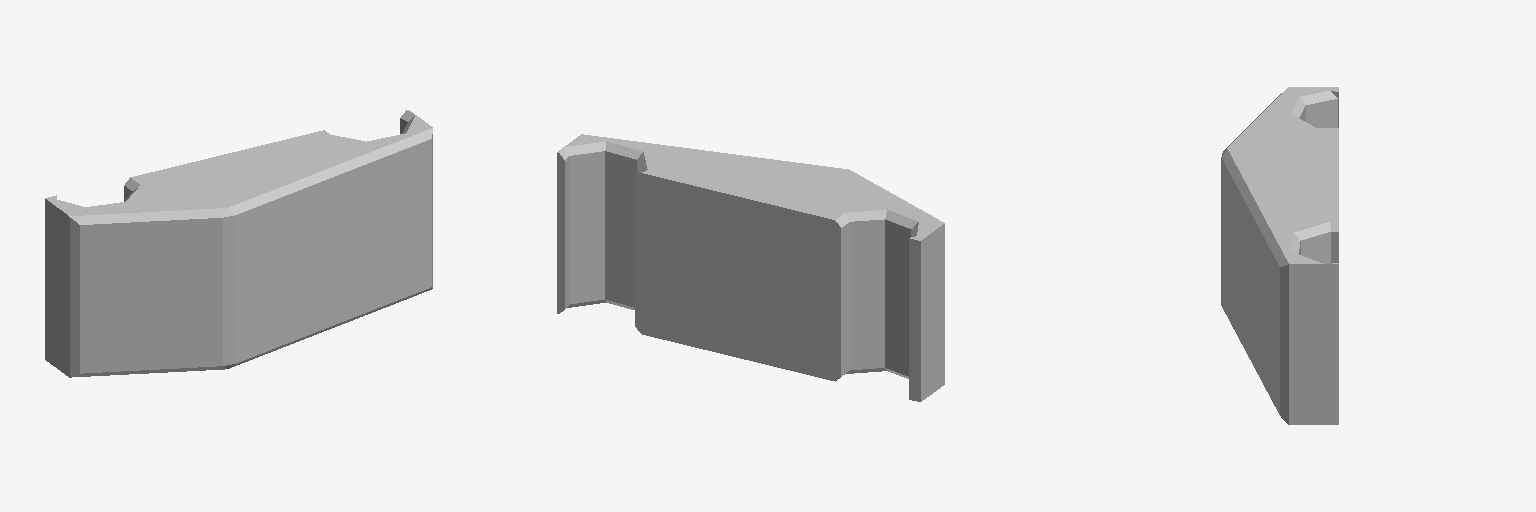
The model's file is Part Studio 1.obj.
3 renders of one model, left to right at view 1: azimuth 30°, elevation 25°; view 2: azimuth 150°, elevation 25°; view 3: azimuth 270°, elevation 25°, orthographic.
Visible parts, largest first — view 1: mesh9, mesh2, mesh41, mesh6, mesh11, mesh1, mesh3, mesh5; view 2: mesh30, mesh41, mesh19, mesh36, mesh22, mesh6, mesh42, mesh7, mesh31, mesh14, mesh15; view 3: mesh41, mesh9, mesh13, mesh12, mesh11, mesh40, mesh25.
Part boxes in pixels (bbox=[...]): mesh9: bbox=[236, 139, 431, 362]; mesh2: bbox=[80, 218, 222, 373]; mesh41: bbox=[45, 110, 432, 215]; mesh6: bbox=[45, 199, 69, 377]; mesh11: bbox=[228, 128, 432, 214]; mesh1: bbox=[223, 215, 235, 365]; mesh3: bbox=[70, 218, 79, 376]; mesh5: bbox=[69, 208, 226, 224]; mesh30: bbox=[635, 173, 840, 381]; mesh41: bbox=[557, 134, 944, 240]; mesh19: bbox=[570, 151, 604, 303]; mesh36: bbox=[850, 219, 884, 369]; mesh22: bbox=[605, 151, 636, 307]; mesh6: bbox=[921, 224, 944, 401]; mesh42: bbox=[885, 220, 911, 376]; mesh7: bbox=[909, 238, 920, 401]; mesh31: bbox=[841, 222, 849, 376]; mesh14: bbox=[557, 153, 564, 313]; mesh15: bbox=[565, 156, 569, 308]; mesh41: bbox=[1227, 87, 1338, 263]; mesh9: bbox=[1221, 158, 1279, 414]; mesh13: bbox=[1289, 264, 1338, 424]; mesh12: bbox=[1280, 264, 1288, 424]; mesh11: bbox=[1222, 149, 1288, 266]; mesh40: bbox=[1306, 99, 1337, 127]; mesh25: bbox=[1301, 232, 1330, 263].
Bounding box in the file's own units: 0.0599 × 0.0254 × 0.0167.